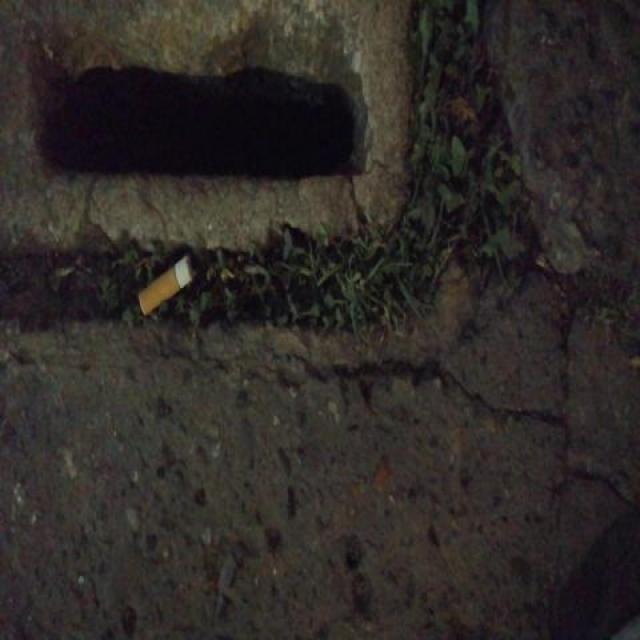non-organic waste: (135, 250, 201, 321)
